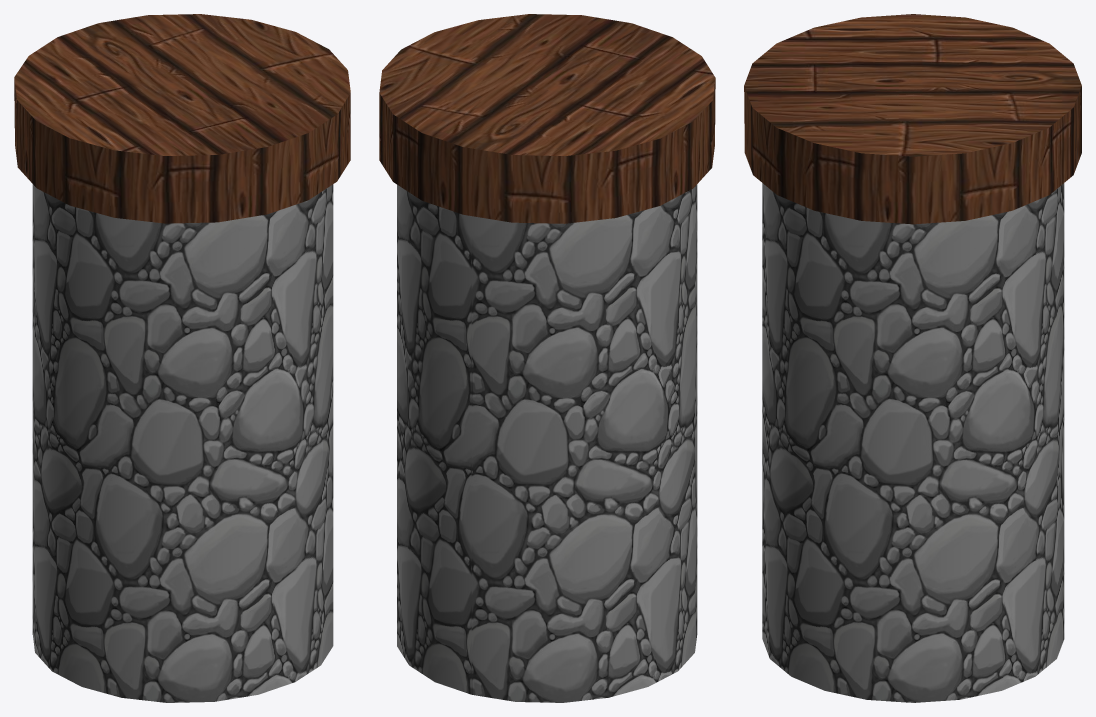
File: Podium1.fbx
3 views of the same model, side by side, from view 1: azimuth 30°, elevation 25°; view 2: azimuth 150°, elevation 25°; view 3: azimuth 270°, elevation 25° (orthographic).
Visible parts, largest first — view 1: pCylinder1, pCylinder3; view 2: pCylinder1, pCylinder3; view 3: pCylinder1, pCylinder3.
Part boxes in pixels (<box>): pCylinder1: <box>32,184,333,702</box>; pCylinder3: <box>14,14,350,223</box>; pCylinder1: <box>397,184,697,702</box>; pCylinder3: <box>379,14,715,223</box>; pCylinder1: <box>762,183,1064,702</box>; pCylinder3: <box>744,14,1081,224</box>.
Size of the model in its own units: 6.55 by 11.85 by 6.55.
2 materials, 2 textured.
